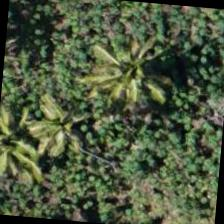Kelapa_Sawit: (89, 16, 187, 114), (14, 71, 112, 169), (0, 89, 62, 185)
